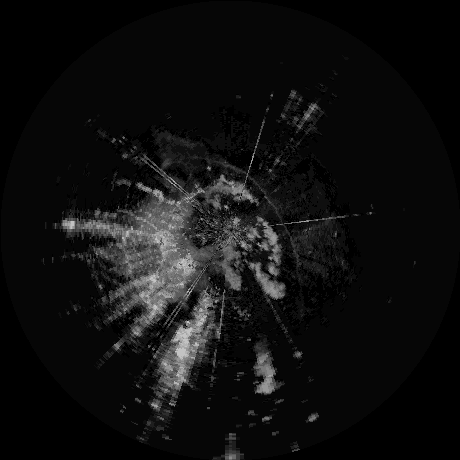frontgust: (215, 159, 301, 274)
